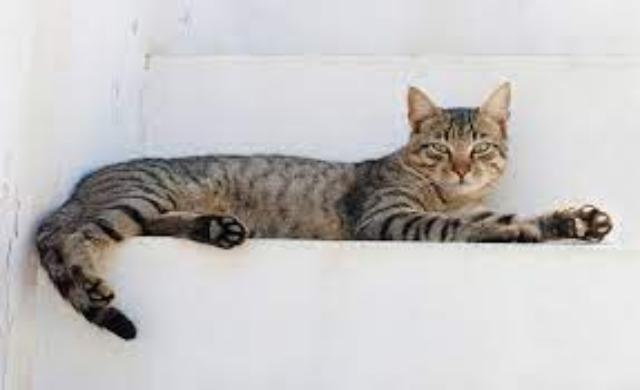cat: (42, 61, 614, 367)
